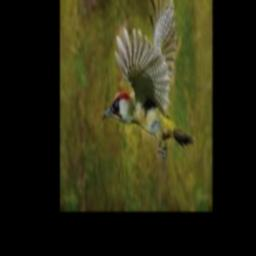Woodpecker: (102, 0, 195, 159)
